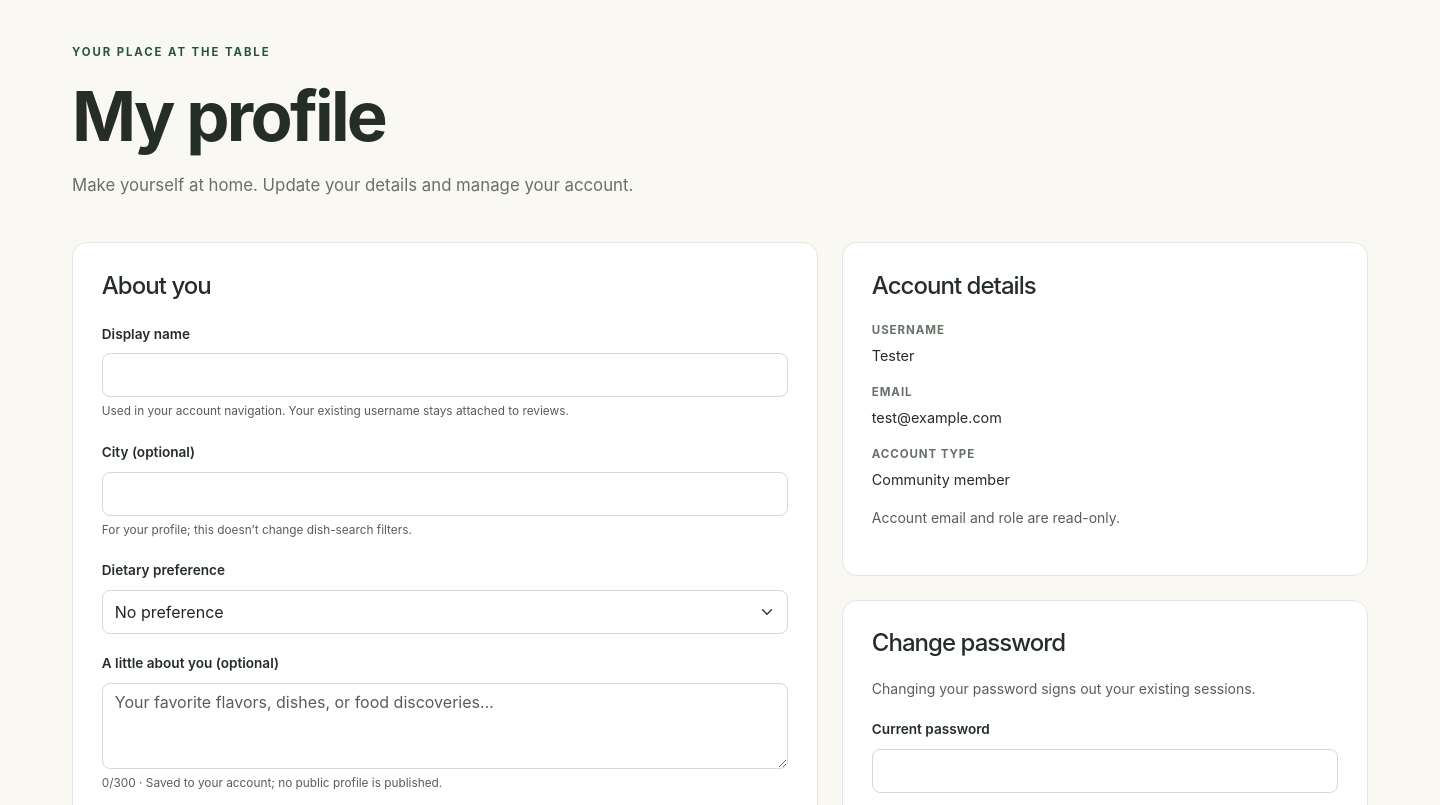
profile saves editable fields without sending account identity or privilege fields
Type "Food lover" into the field labelled "Display name". click: x=445, y=375
box: [102,353,788,397]
(page scrolled)
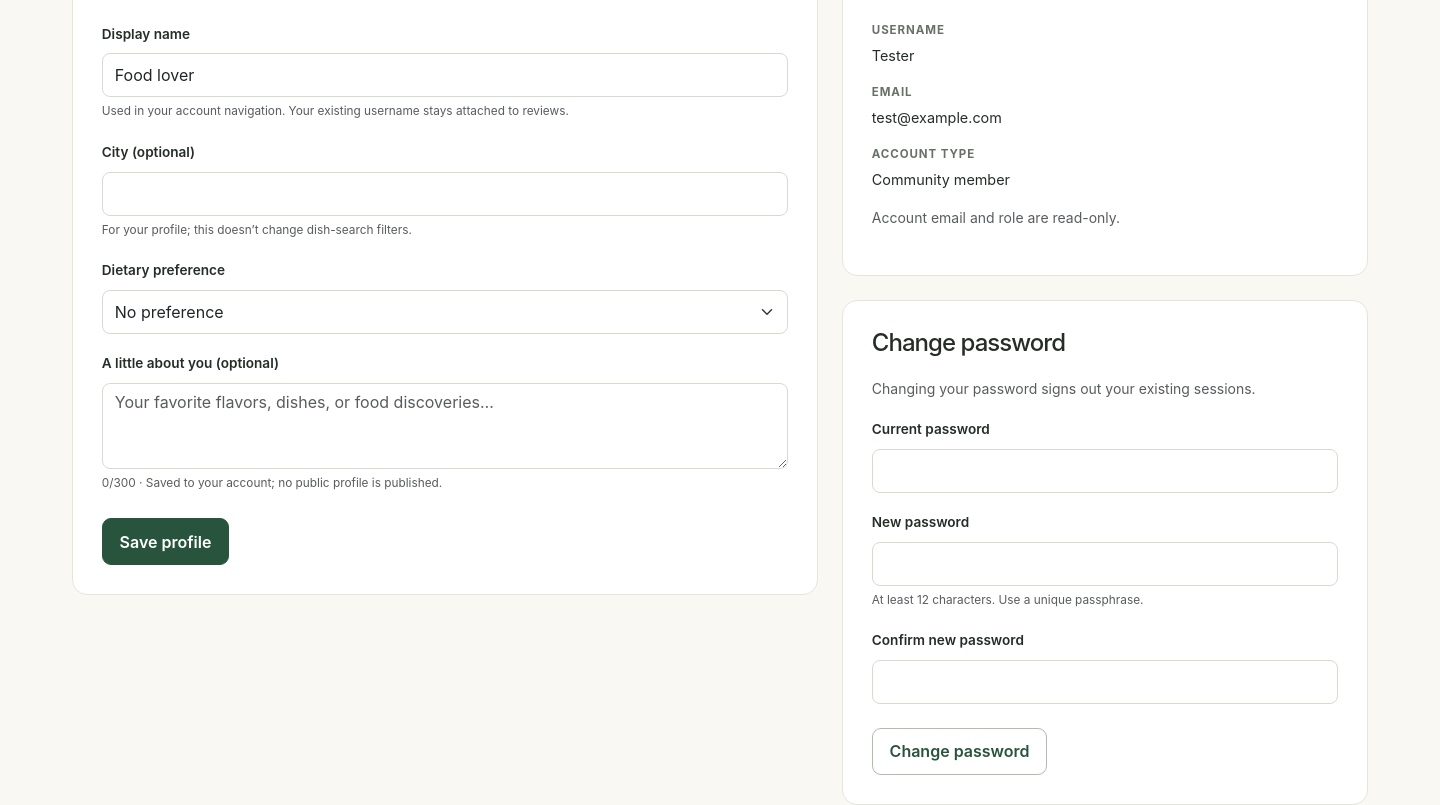
Click the button "Save profile". click: x=166, y=542
box: [102,518,229,565]
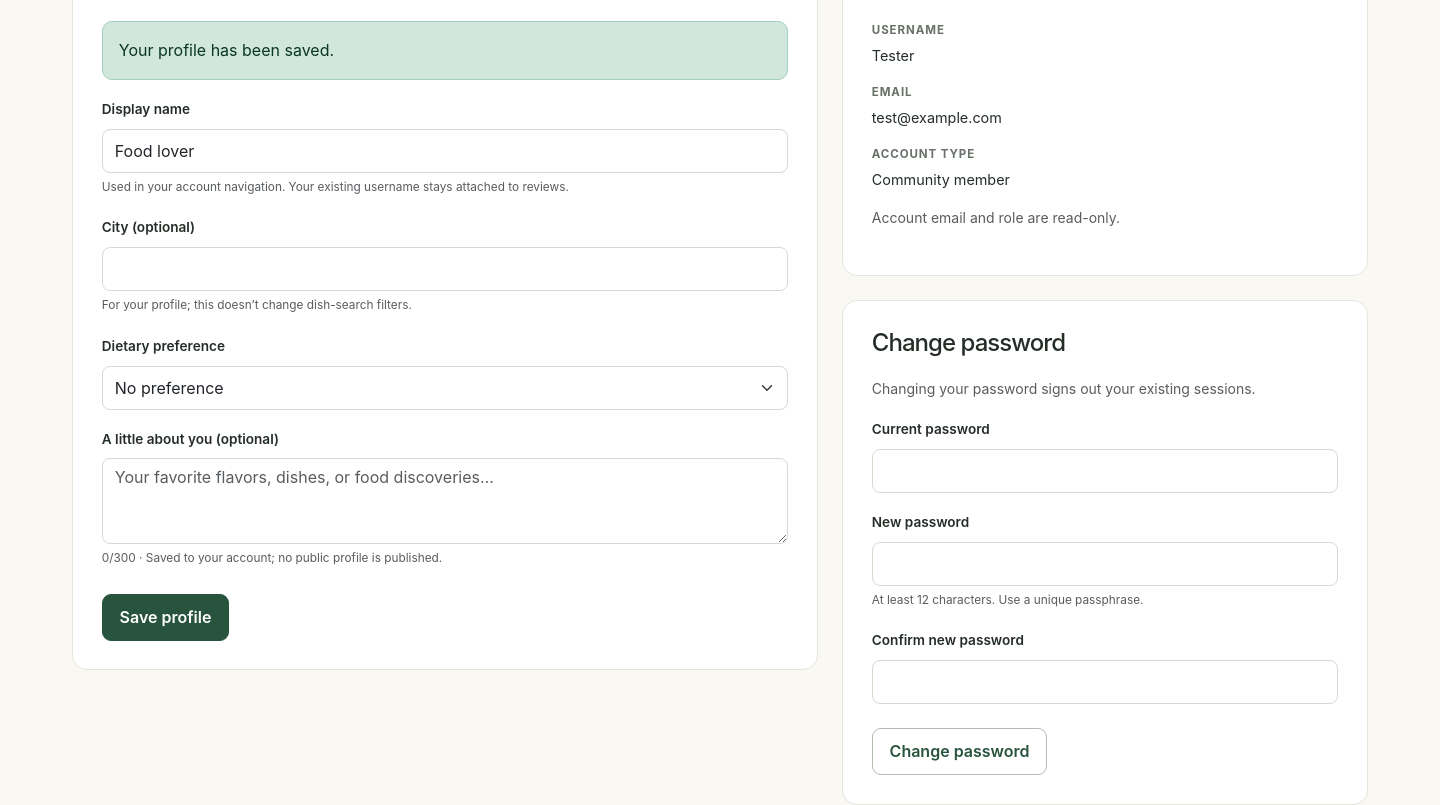
Expected: the text "Your profile has been saved." is shown, [102,20,788,80]
